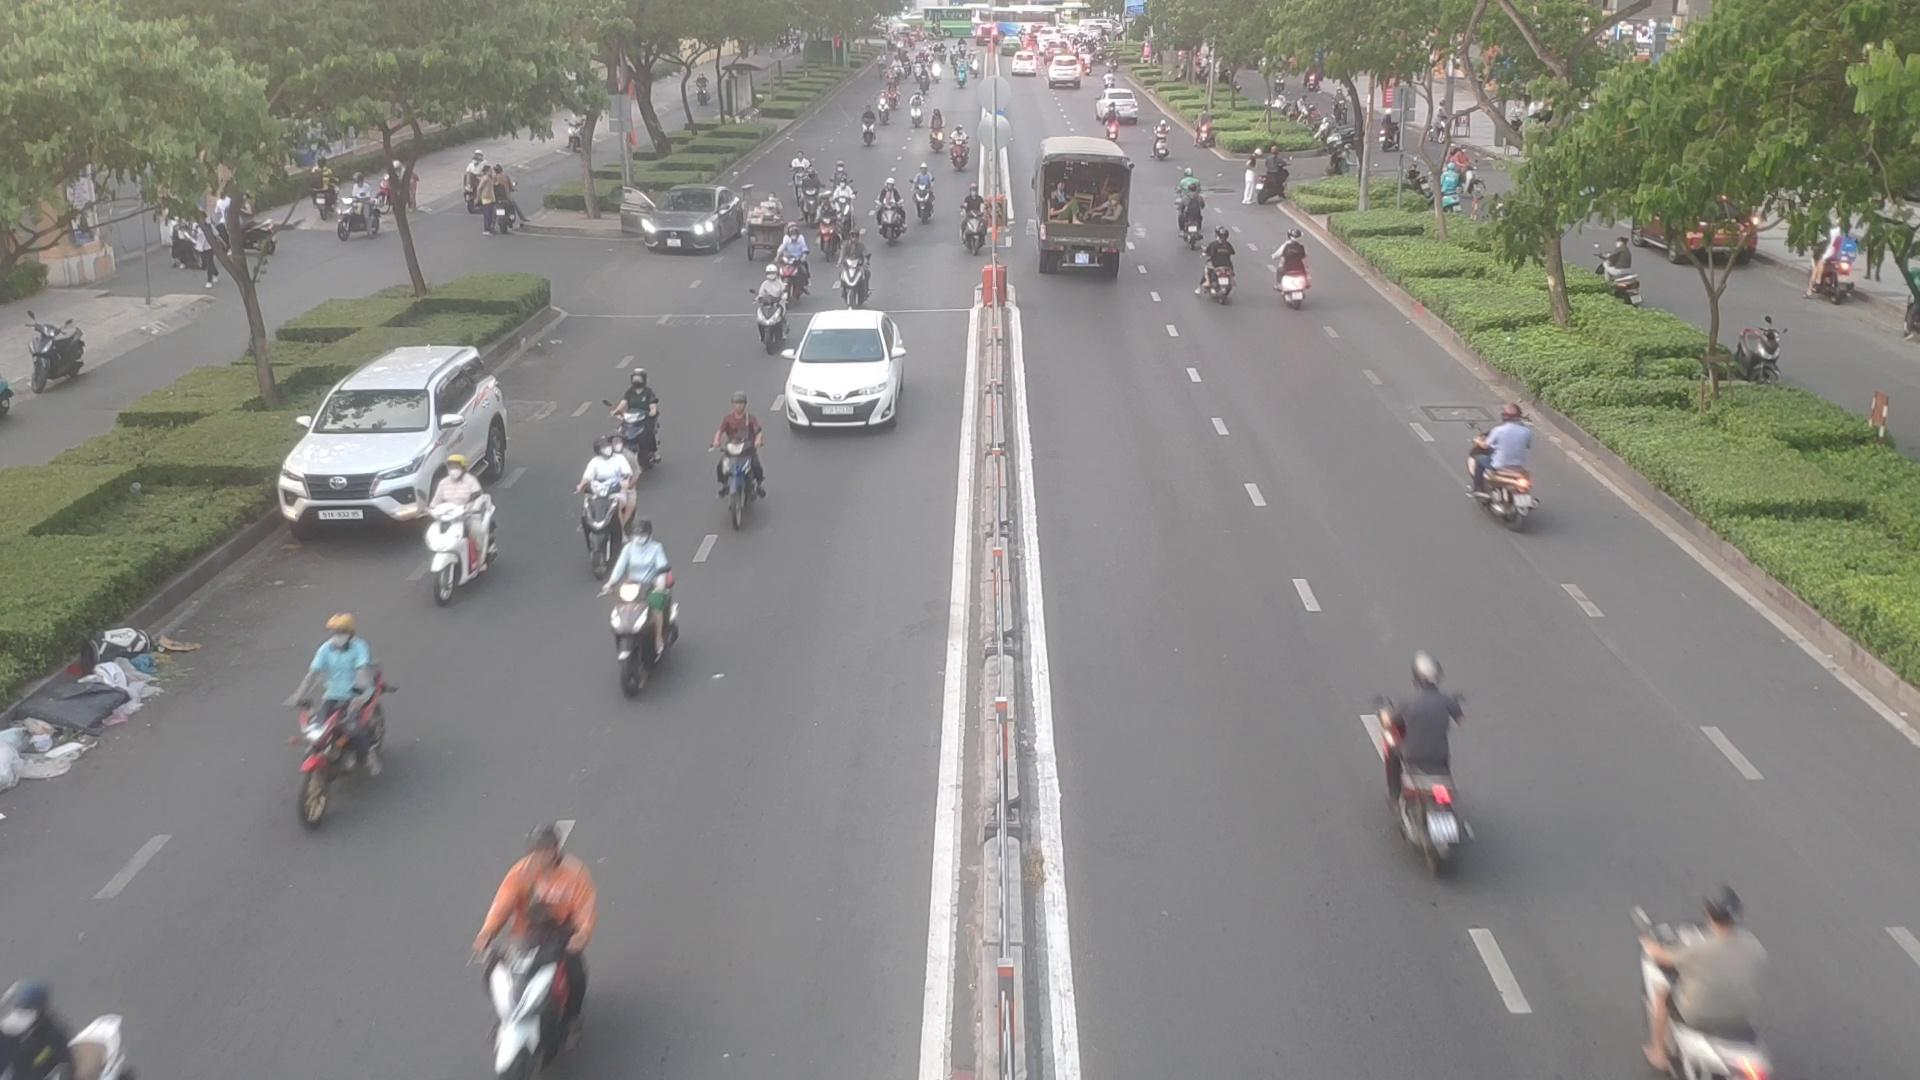car: (285, 342, 520, 530), (781, 313, 910, 431), (618, 193, 746, 258)
motorbike: (468, 831, 599, 1076), (1633, 886, 1782, 1079), (1373, 651, 1487, 868), (281, 615, 396, 818), (603, 527, 691, 687), (409, 468, 506, 603), (1462, 404, 1548, 525), (705, 398, 771, 522), (578, 442, 645, 534), (613, 372, 666, 458), (1270, 233, 1317, 309), (748, 274, 790, 347), (1201, 233, 1246, 301), (956, 189, 998, 256), (1170, 189, 1211, 251), (870, 189, 907, 247), (913, 167, 942, 219), (857, 113, 880, 149)
